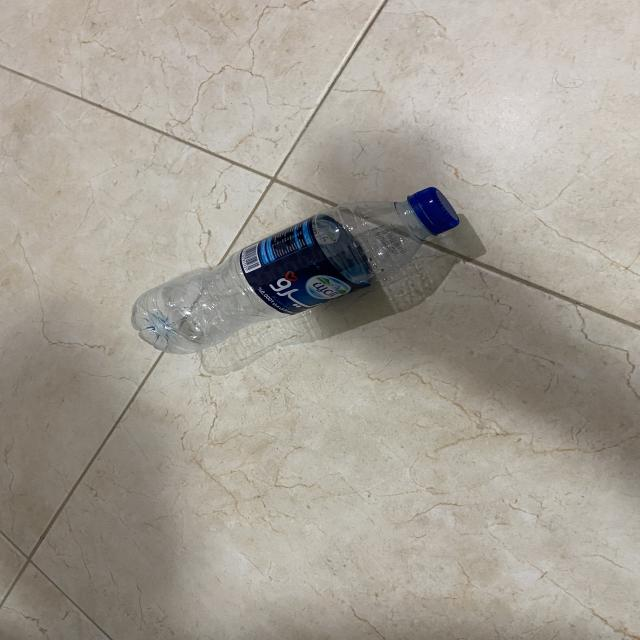bottle: (130, 175, 464, 359)
